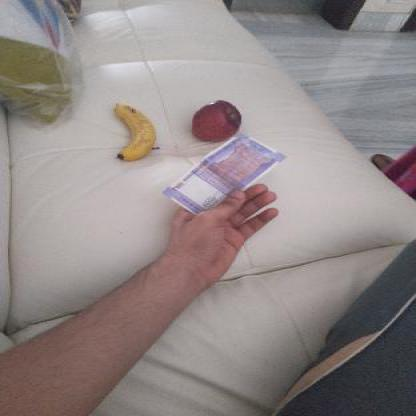New100Back: (170, 128, 282, 210)
